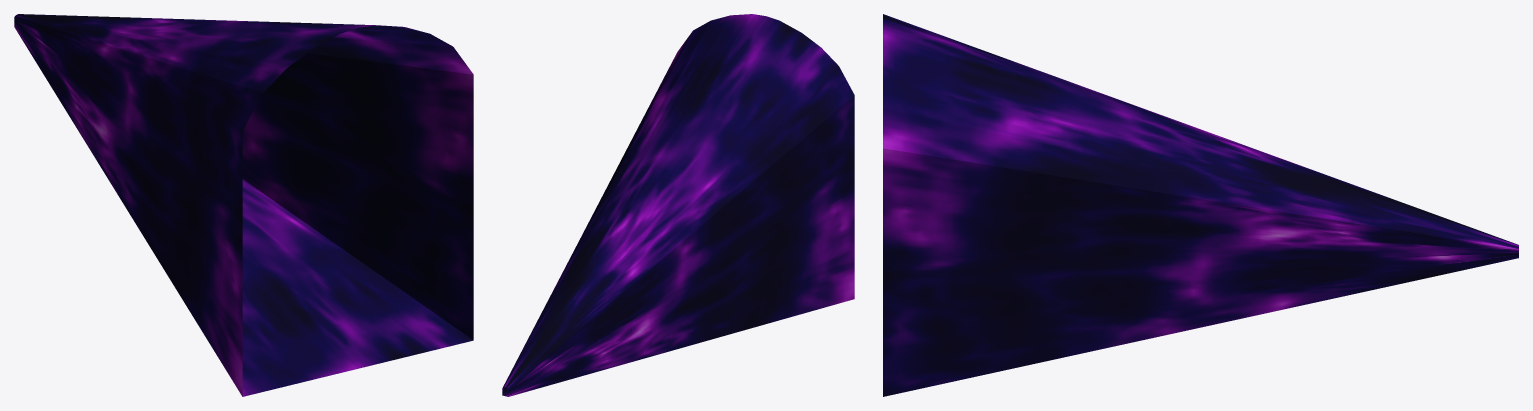
Rendered from Door_2_effect.FBX.
The picture shows the model from 3 angles, left to right: view 1: azimuth 30°, elevation 25°; view 2: azimuth 150°, elevation 25°; view 3: azimuth 270°, elevation 25°; orthographic projection. The views are drawn at different scales.
Parts seen in each view (by area): view 1: Door_effect_1; view 2: Door_effect_1; view 3: Door_effect_1.
Part boxes in pixels (x1,y1,x2,y2): Door_effect_1: (14, 14, 473, 396); Door_effect_1: (502, 14, 854, 396); Door_effect_1: (883, 14, 1518, 396).
Bounding box in the file's own units: 264 × 372 × 672.
